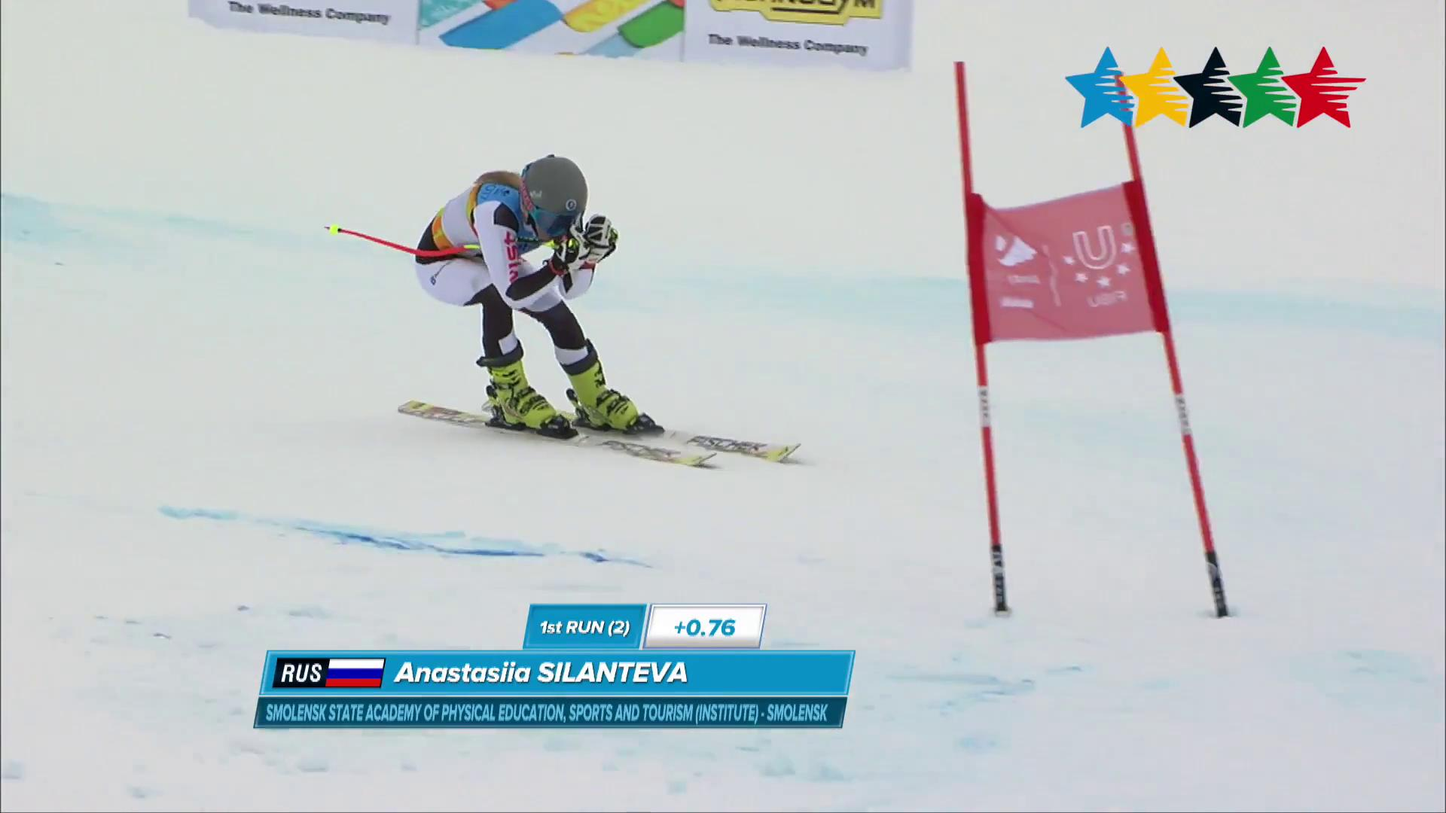gate: (955, 62, 1228, 617)
